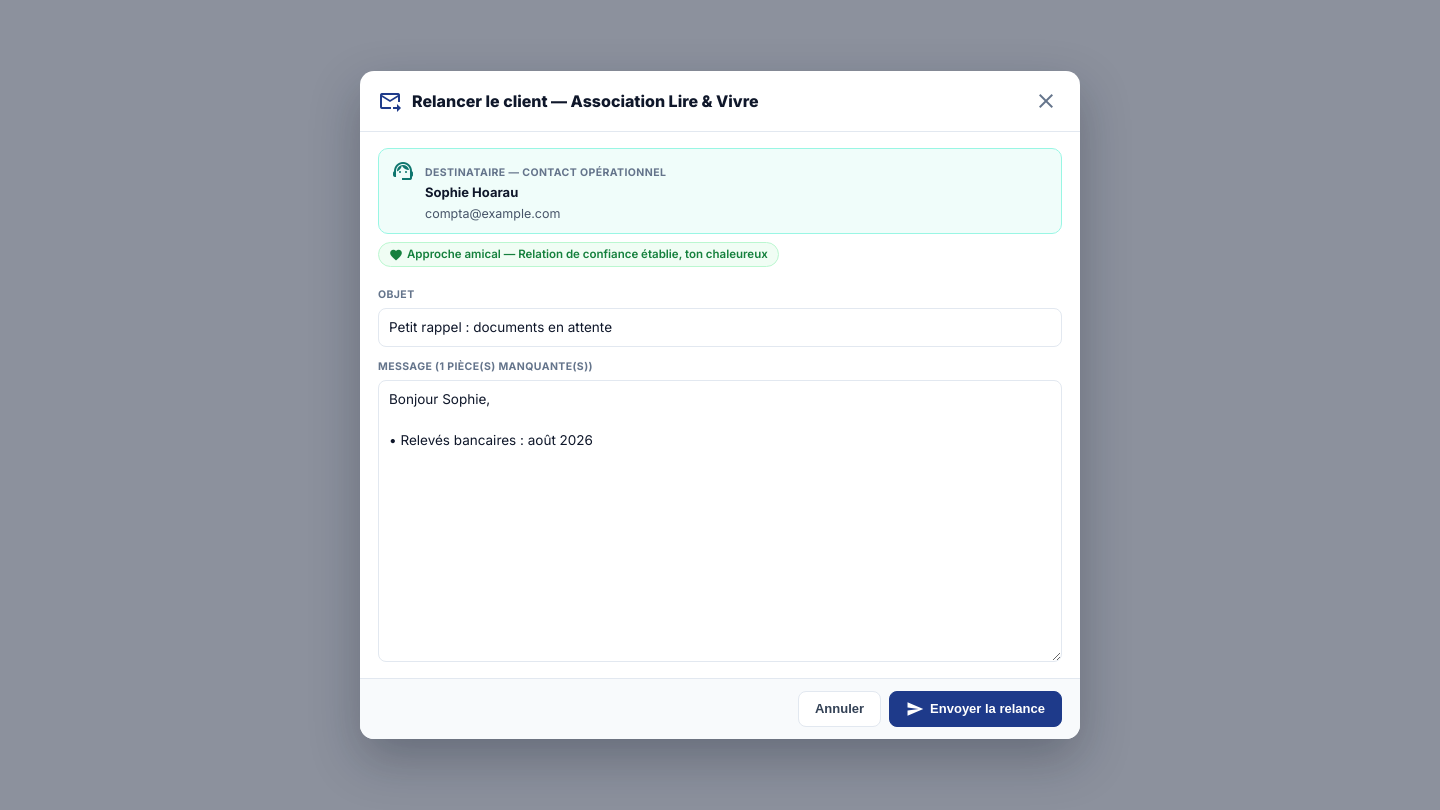
Test: RelanceClientComponent (cahier v2 #1) › erreur serveur à l’envoi : message affiché, la relance reste éditable
The width and height of the screenshot is (1440, 810).
Click the button "Envoyer la relance" at (976, 708), box x1=889 y1=690 x2=1062 y2=726
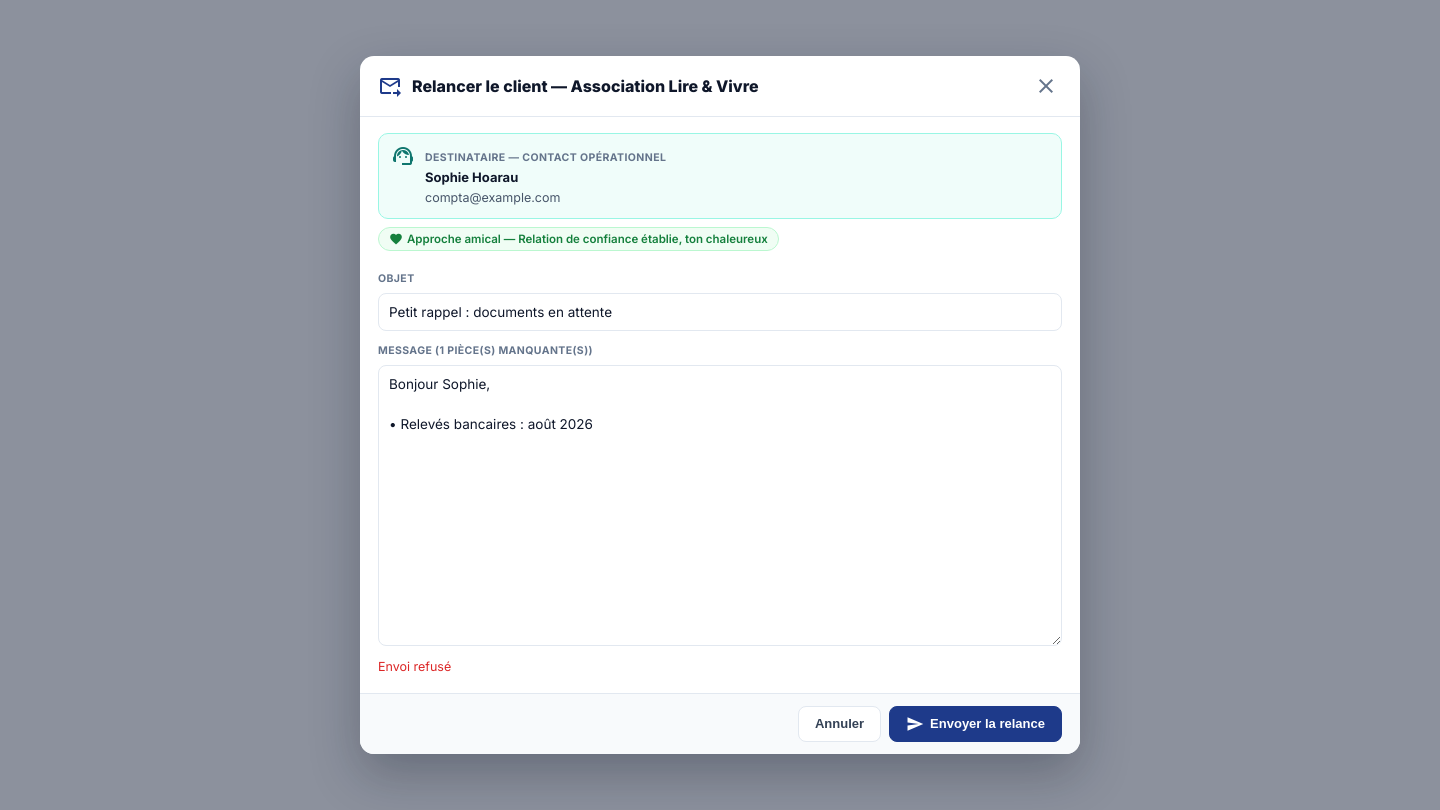
Expected: the text box labelled "Message (1 pièce(s) manquante(s))" is shown, x1=378 y1=365 x2=1062 y2=646
Now the text "Envoi refusé" is shown, box x1=378 y1=659 x2=451 y2=674
